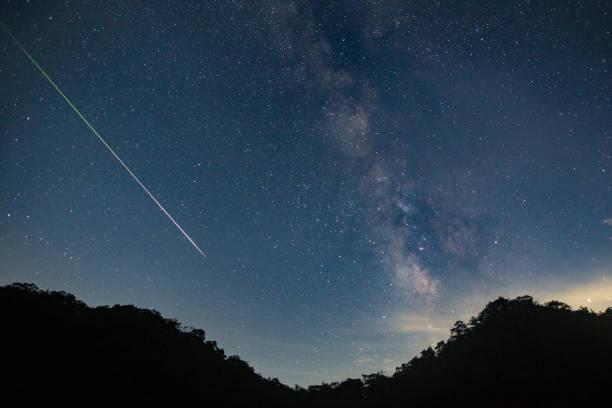meteor: (195, 246, 212, 264)
